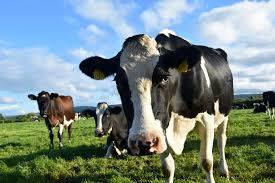cow: (78, 28, 233, 183), (84, 102, 135, 159), (27, 90, 76, 145)
